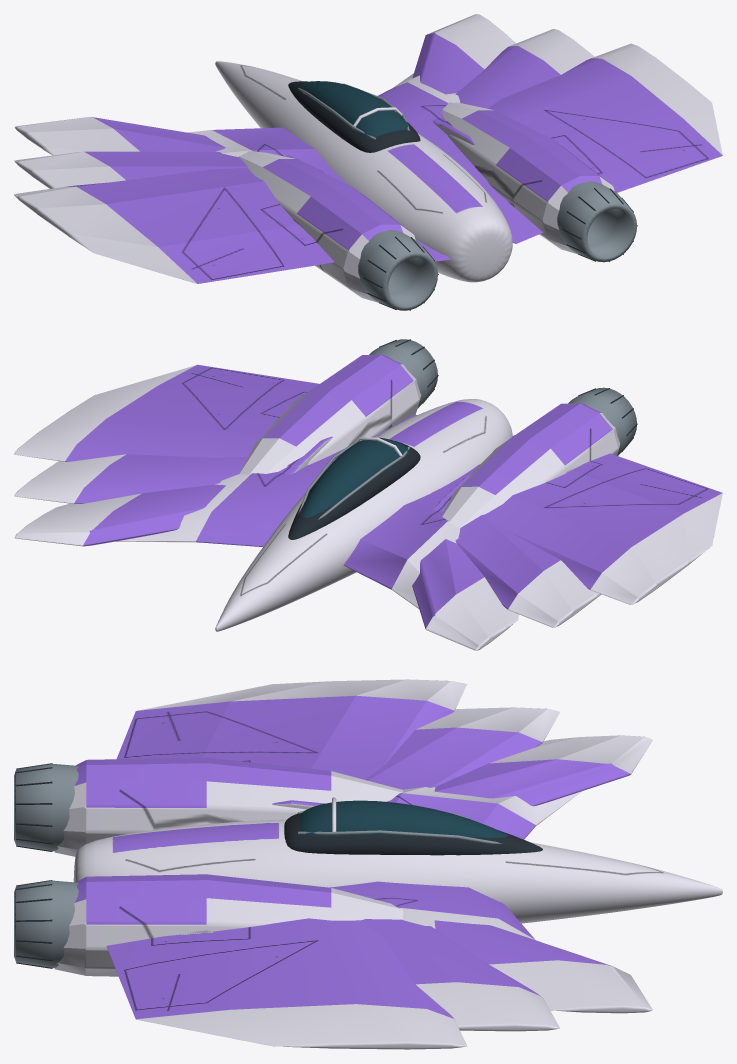
The picture shows the model from 3 angles, top to bottom: view 1: azimuth 30°, elevation 25°; view 2: azimuth 150°, elevation 25°; view 3: azimuth 270°, elevation 25°; orthographic projection. The views are drawn at different scales.
Visible parts, largest first — view 1: PhaseSeraphV2; view 2: PhaseSeraphV2; view 3: PhaseSeraphV2.
Boxes of the visible parts, x1,y1,x2,y2 form: PhaseSeraphV2: [14, 14, 722, 310]; PhaseSeraphV2: [14, 339, 722, 650]; PhaseSeraphV2: [14, 679, 722, 1049].
Bounding box in the file's own units: 3.8 × 0.6313 × 3.13.
6 materials, 2 textured.
